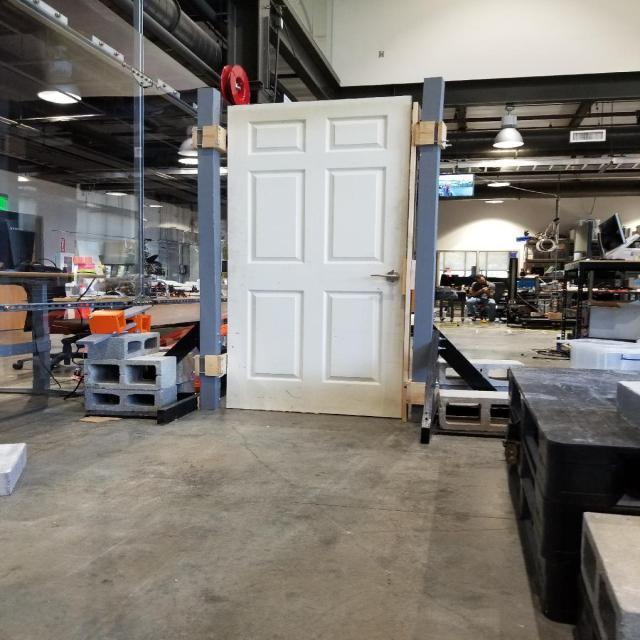door: (224, 92, 414, 422), (362, 267, 401, 286)
